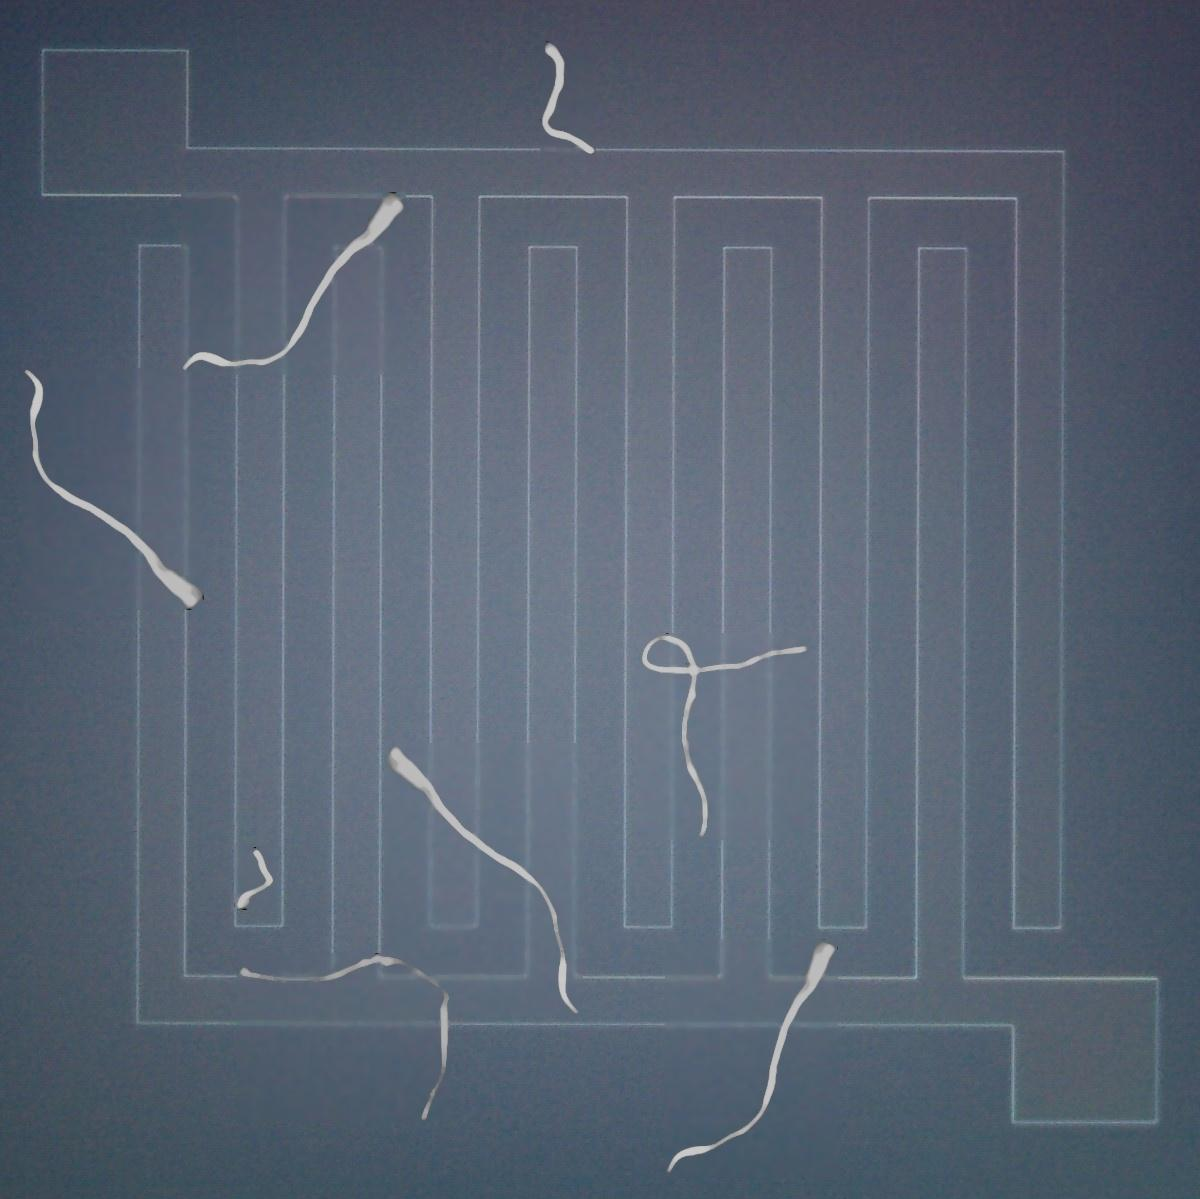foreign: (382, 730, 598, 1032), (12, 347, 222, 628), (173, 183, 423, 380), (660, 942, 851, 1190), (627, 617, 823, 849), (233, 949, 467, 1133), (526, 35, 605, 164), (227, 844, 287, 912)
